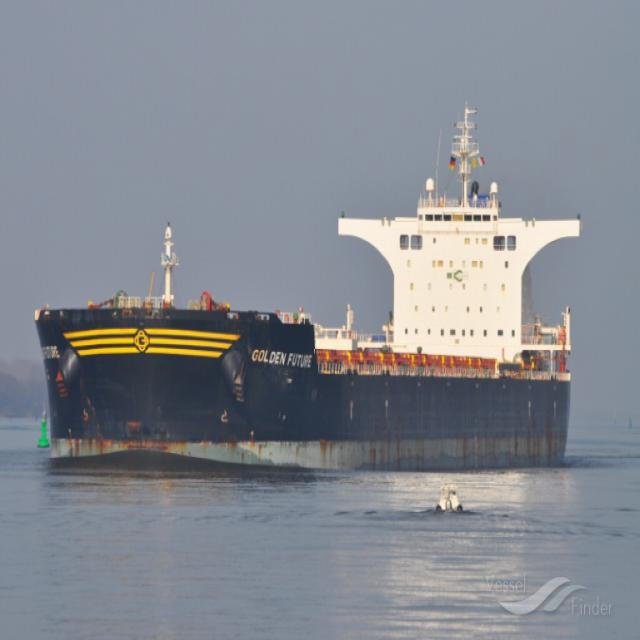OCR: (246, 333, 316, 375)
